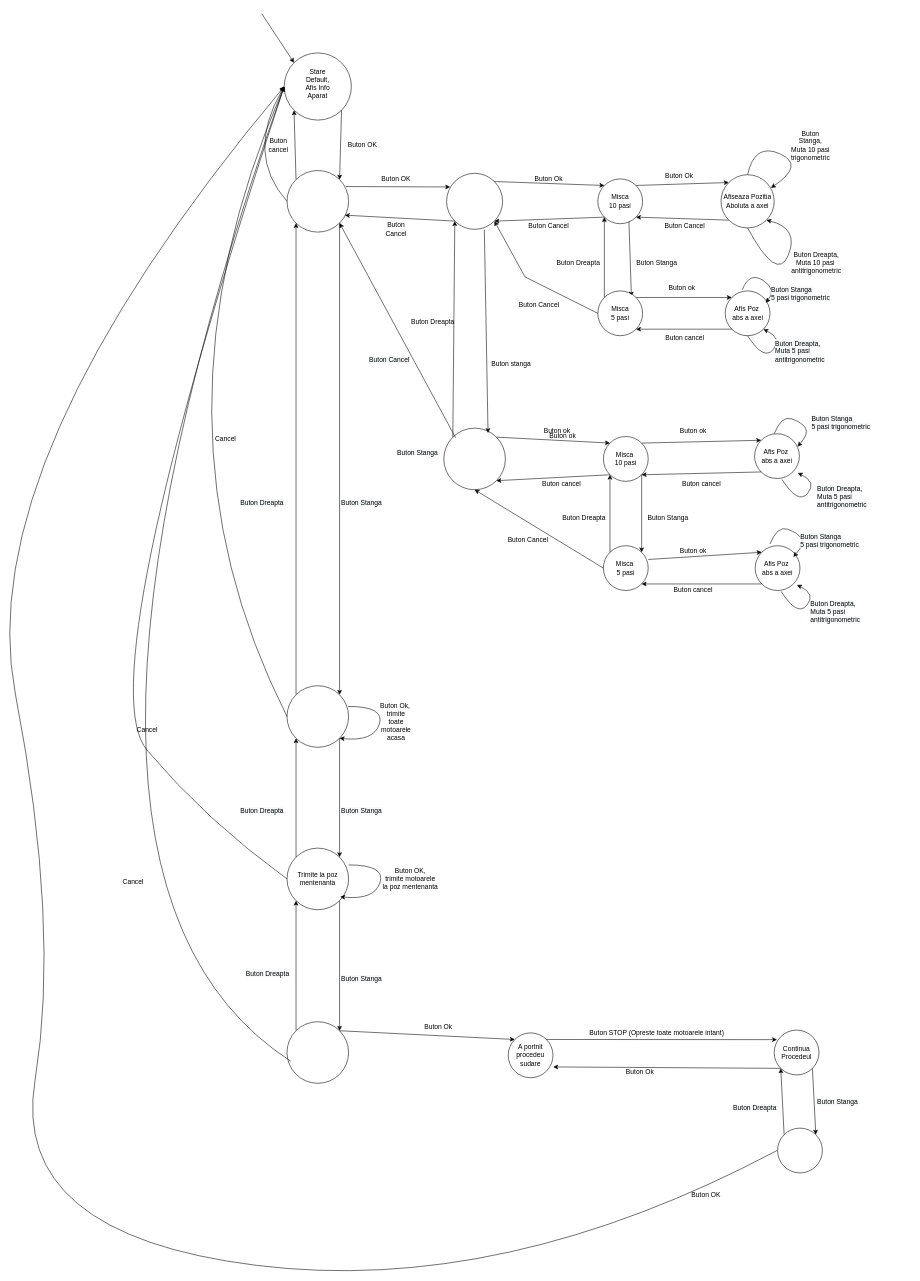
The diagram is 920 pixels wide and 1281 high, and some of its shapes have lost their labels. Each missing label, with the centre of its shape:
"Misca axa 1" goes at pixel 474 201.
"Misca axa 2" goes at pixel 474 459.
"Misca Axe" goes at pixel 317 201.
"Seteaza pozitie acasa" goes at pixel 317 716.
"Start procedeu sudare" goes at pixel 317 1052.
"Trimite la meniu" goes at pixel 799 1150.
